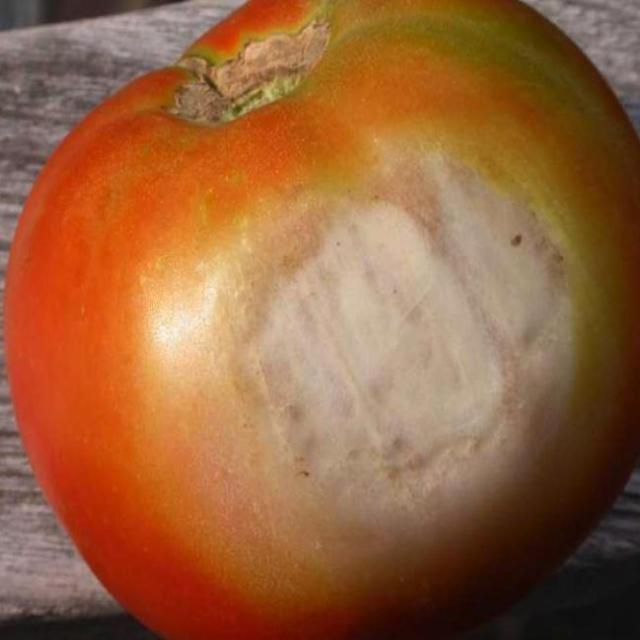Sunscald Fruit: (107, 80, 391, 381)
